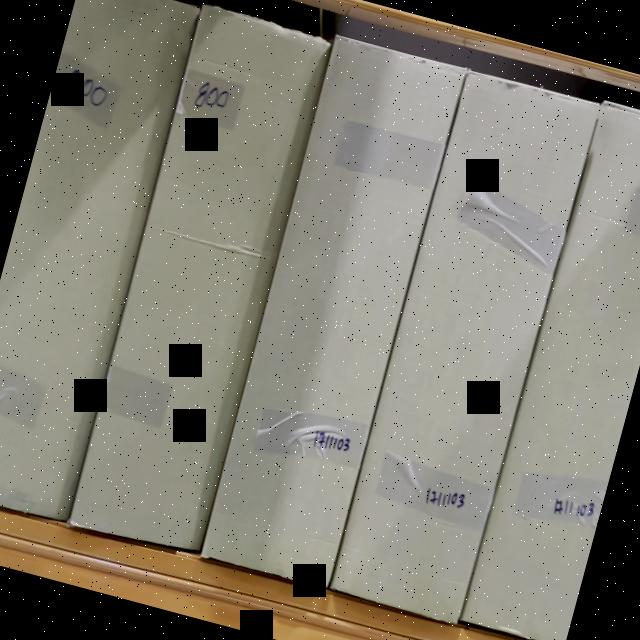box: (332, 72, 598, 620), (68, 7, 334, 554), (202, 39, 463, 584), (0, 0, 195, 518)
